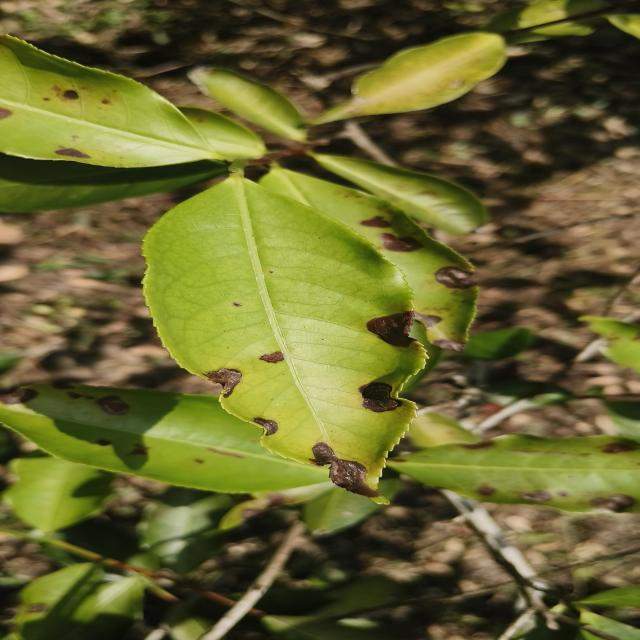Leaf: (144, 174, 424, 496), (260, 166, 477, 351), (0, 382, 328, 493), (0, 34, 215, 168), (387, 434, 640, 512), (314, 32, 506, 124), (310, 153, 486, 235), (0, 153, 226, 212), (12, 562, 144, 640), (188, 68, 306, 142), (3, 456, 114, 534), (140, 487, 232, 574), (180, 107, 266, 159), (303, 484, 382, 534), (579, 316, 640, 372), (407, 411, 481, 448), (462, 328, 532, 360), (380, 478, 400, 497)
